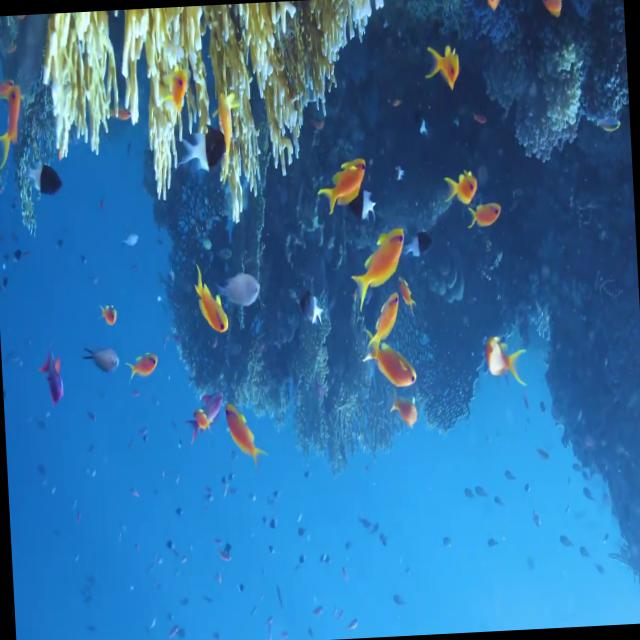fish: (350, 231, 406, 310), (362, 327, 417, 393), (319, 158, 370, 216), (223, 404, 266, 465), (182, 122, 230, 174), (364, 295, 402, 357), (195, 269, 229, 336), (0, 78, 25, 166), (20, 158, 64, 200), (486, 338, 524, 382), (218, 272, 264, 308), (428, 46, 462, 93), (41, 353, 66, 410), (388, 392, 421, 431), (444, 168, 479, 204), (82, 347, 122, 378), (468, 197, 504, 230), (127, 348, 160, 381), (299, 294, 324, 328), (539, 0, 562, 14), (474, 266, 476, 266)
